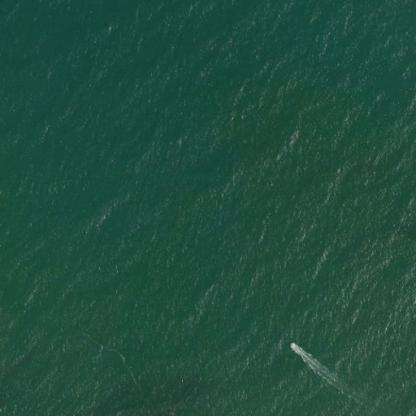ship: (286, 340, 299, 351)
